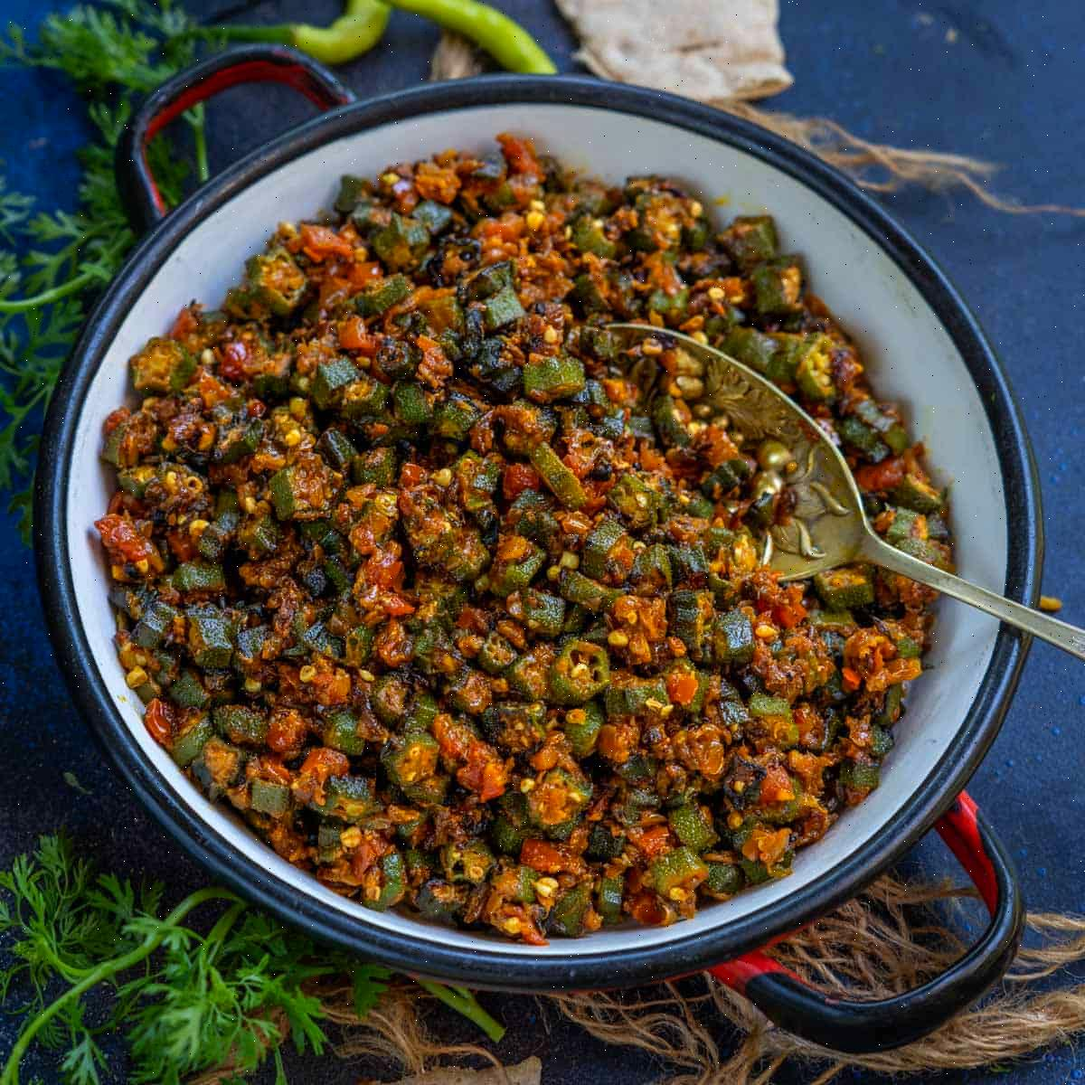bhindi: (122, 182, 919, 890)
